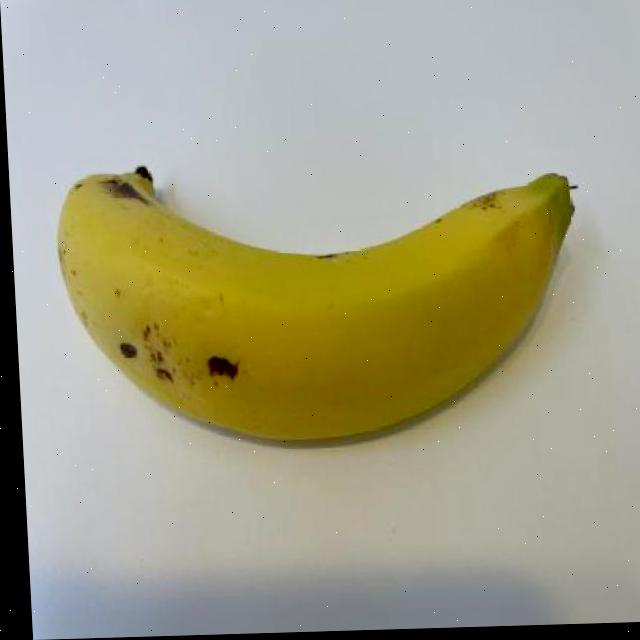banana: (51, 146, 586, 451)
